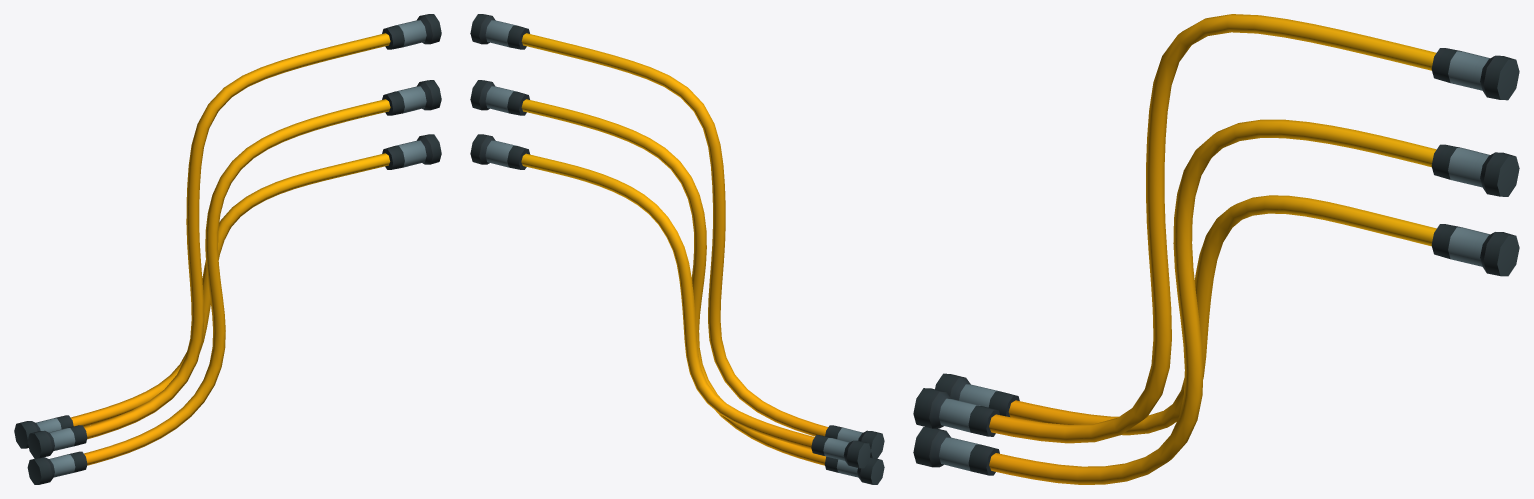
Rendered from Cable_type_C_008.fbx.
The picture shows the model from 3 angles, left to right: view 1: azimuth 30°, elevation 25°; view 2: azimuth 150°, elevation 25°; view 3: azimuth 330°, elevation 25°; orthographic projection. The views are drawn at different scales.
Parts seen in each view (by area): view 1: Cable_type_C_008; view 2: Cable_type_C_008; view 3: Cable_type_C_008.
Part boxes in pixels (x1,y1,x2,y2): Cable_type_C_008: (14, 14, 441, 484); Cable_type_C_008: (470, 14, 884, 484); Cable_type_C_008: (913, 14, 1519, 484).
Size of the model in its own units: 131 by 15.95 by 117.
